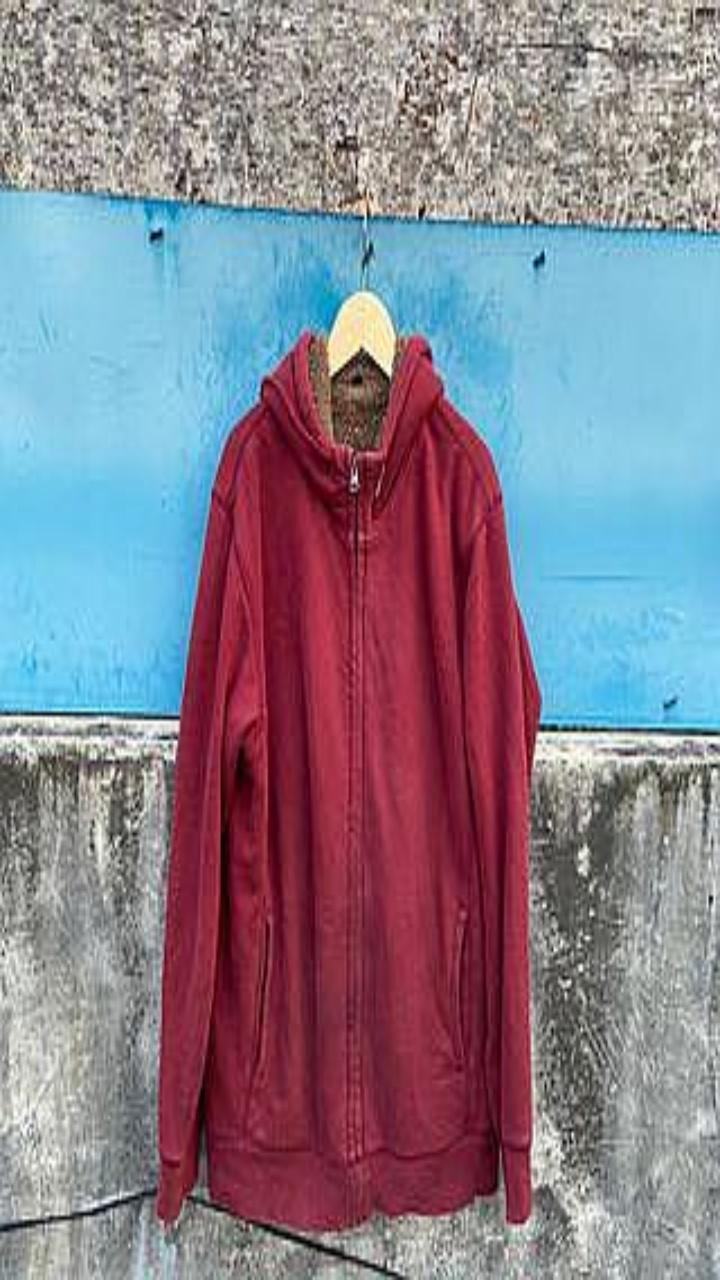Sports_Jacket: (156, 329, 540, 1228)
